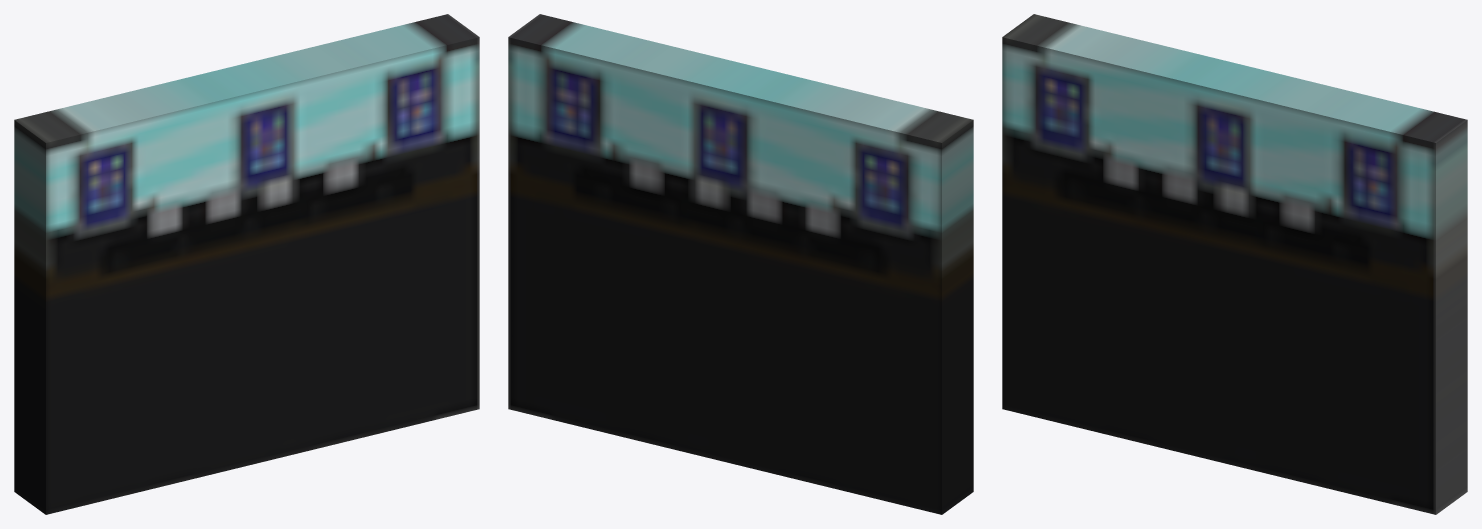
The model's file is LOD_IPads.fbx.
3 views of the same model, side by side, from view 1: azimuth 30°, elevation 25°; view 2: azimuth 150°, elevation 25°; view 3: azimuth 330°, elevation 25° (orthographic).
Parts seen in each view (by area): view 1: LOD_IPads_WithEdge; view 2: LOD_IPads_WithEdge; view 3: LOD_IPads_WithEdge.
Part boxes in pixels (box(x1,y1,x2,y2)): LOD_IPads_WithEdge: box(14, 14, 479, 514); LOD_IPads_WithEdge: box(508, 14, 973, 514); LOD_IPads_WithEdge: box(1002, 14, 1467, 514).
Size of the model in its own units: 0.4028 by 0.3299 by 0.051.
